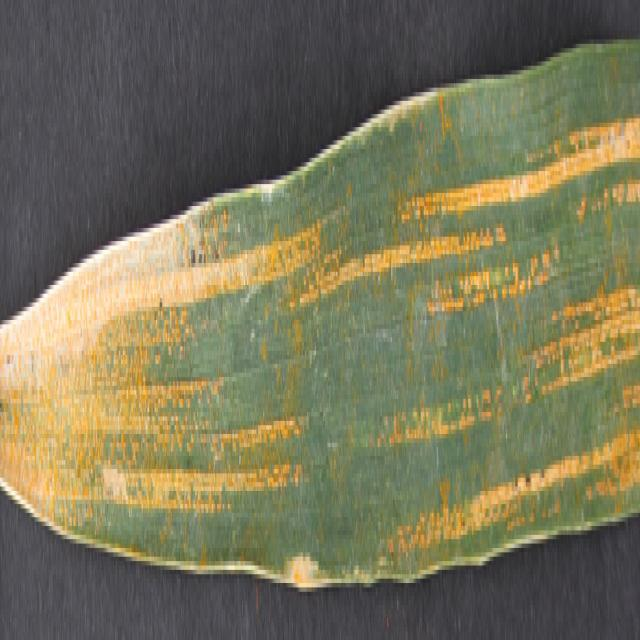leaf rust: (1, 83, 638, 557)
